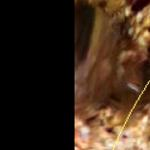alive: (77, 1, 149, 148)
